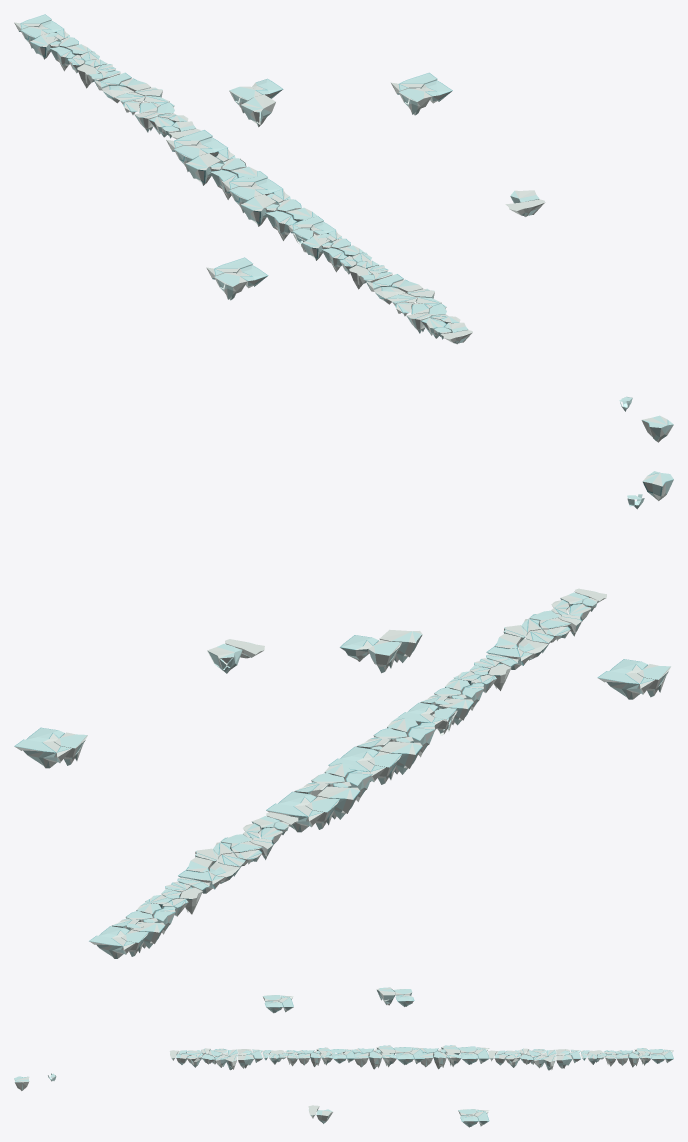
File: bridge.glb
3 renders of one model, top to bottom at view 1: azimuth 30°, elevation 25°; view 2: azimuth 150°, elevation 25°; view 3: azimuth 270°, elevation 25°, orthographic. The views are drawn at different scales.
Bounding box in the file's own units: 240 × 75.64 × 596.
